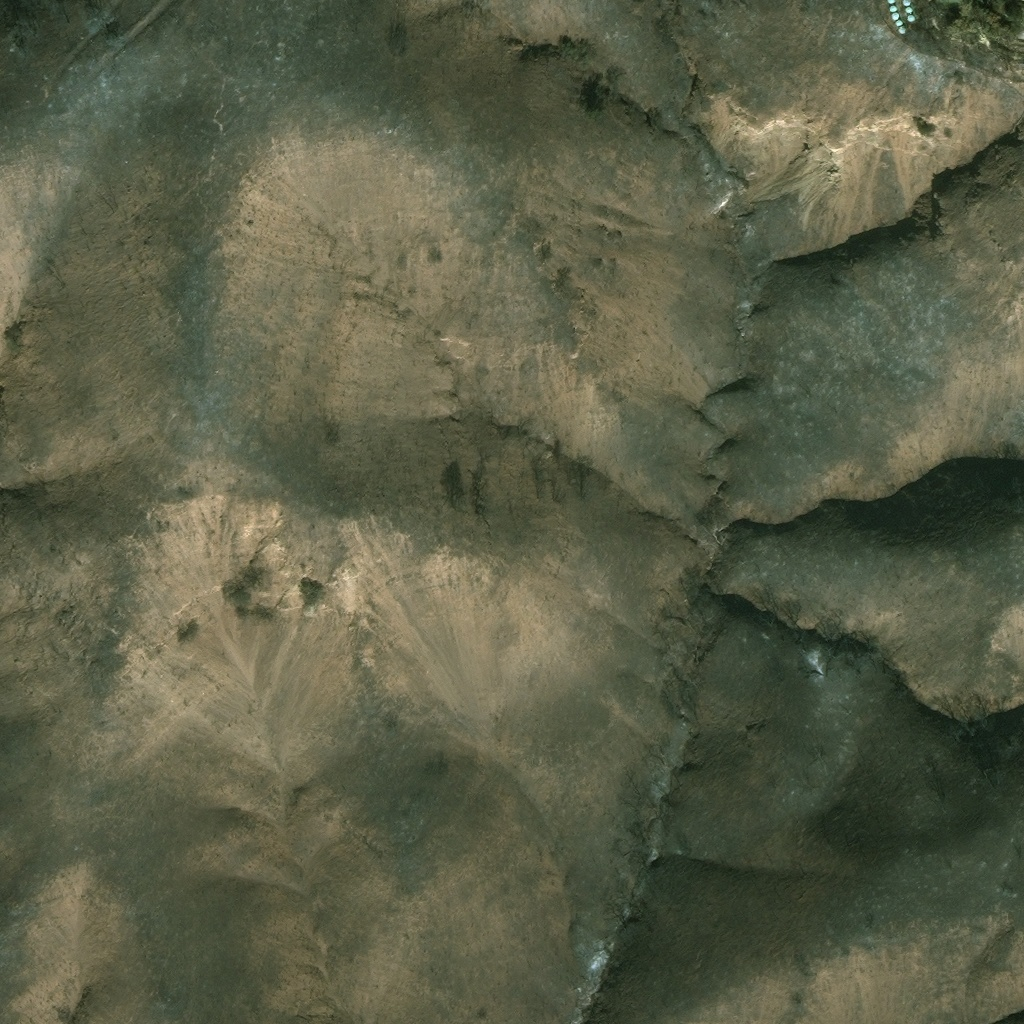0 no-damage: (886, 0, 907, 33), (902, 0, 919, 25)
4 un-classified: (918, 13, 932, 28)
